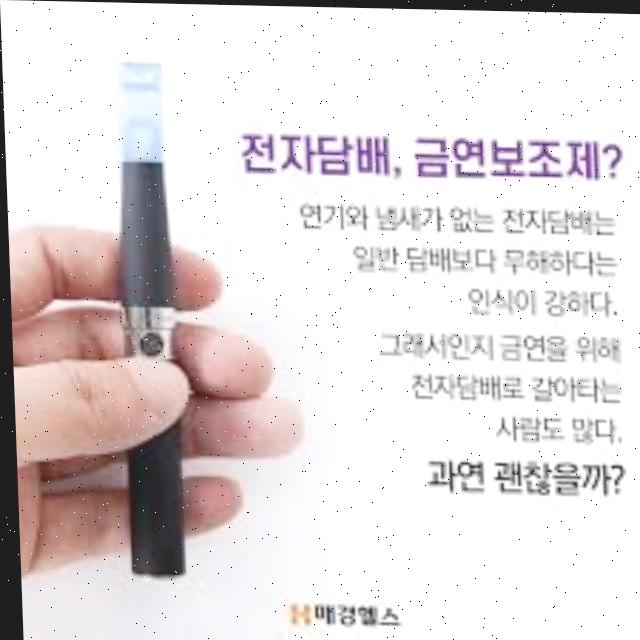vape: (110, 62, 182, 579)
